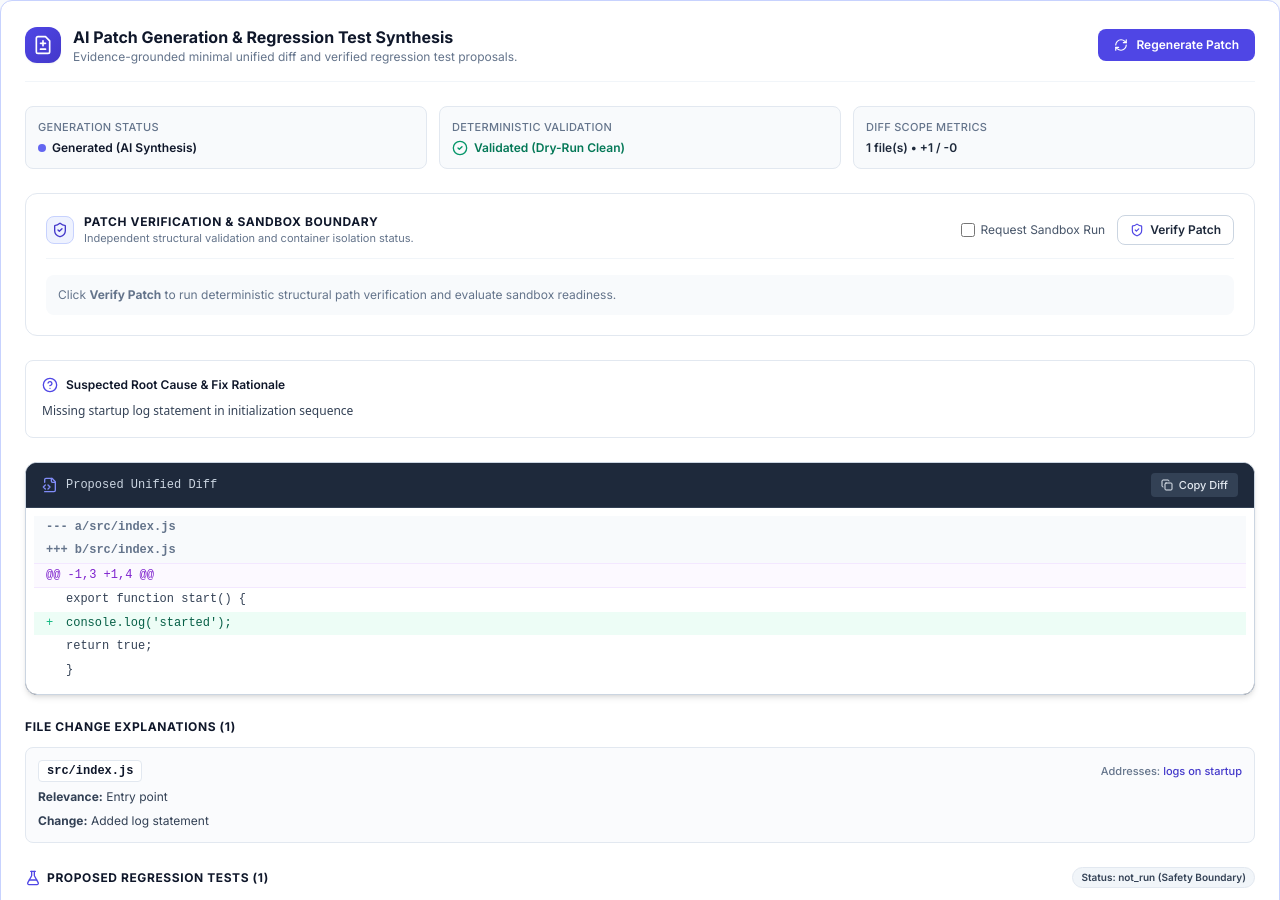
Test: PatchReviewCard Frontend Component › allows copying the unified diff and regression test code to clipboard
The image size is (1280, 900).
Click the button "Copy Diff" at (1194, 484), box [1151,472,1238,496]
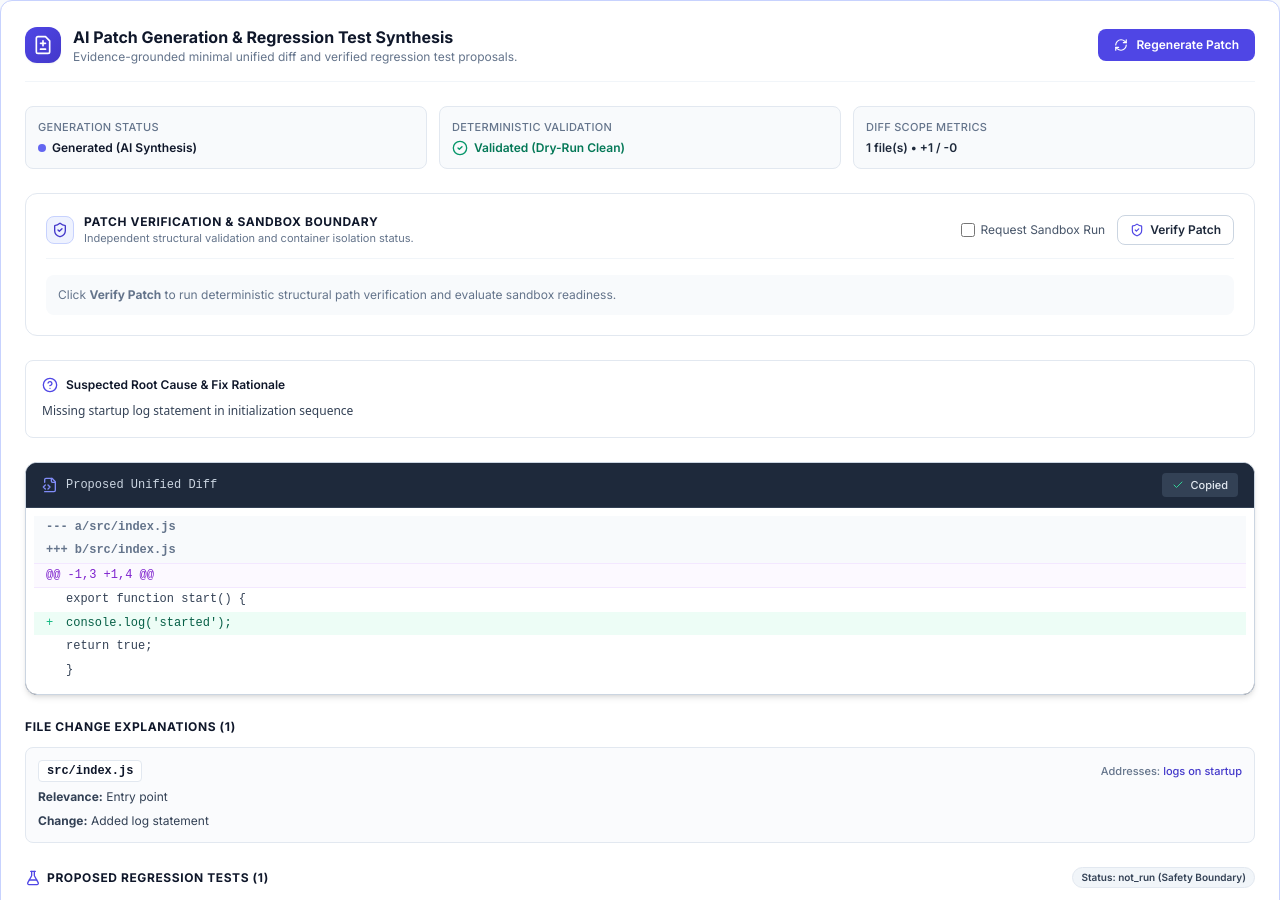
Expected: the text "Copied" is shown, [1190,476,1228,492]
